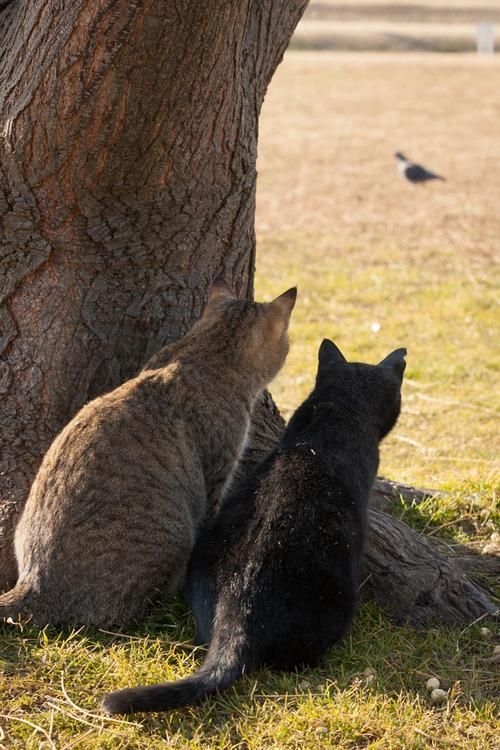cat: (288, 343, 410, 596)
